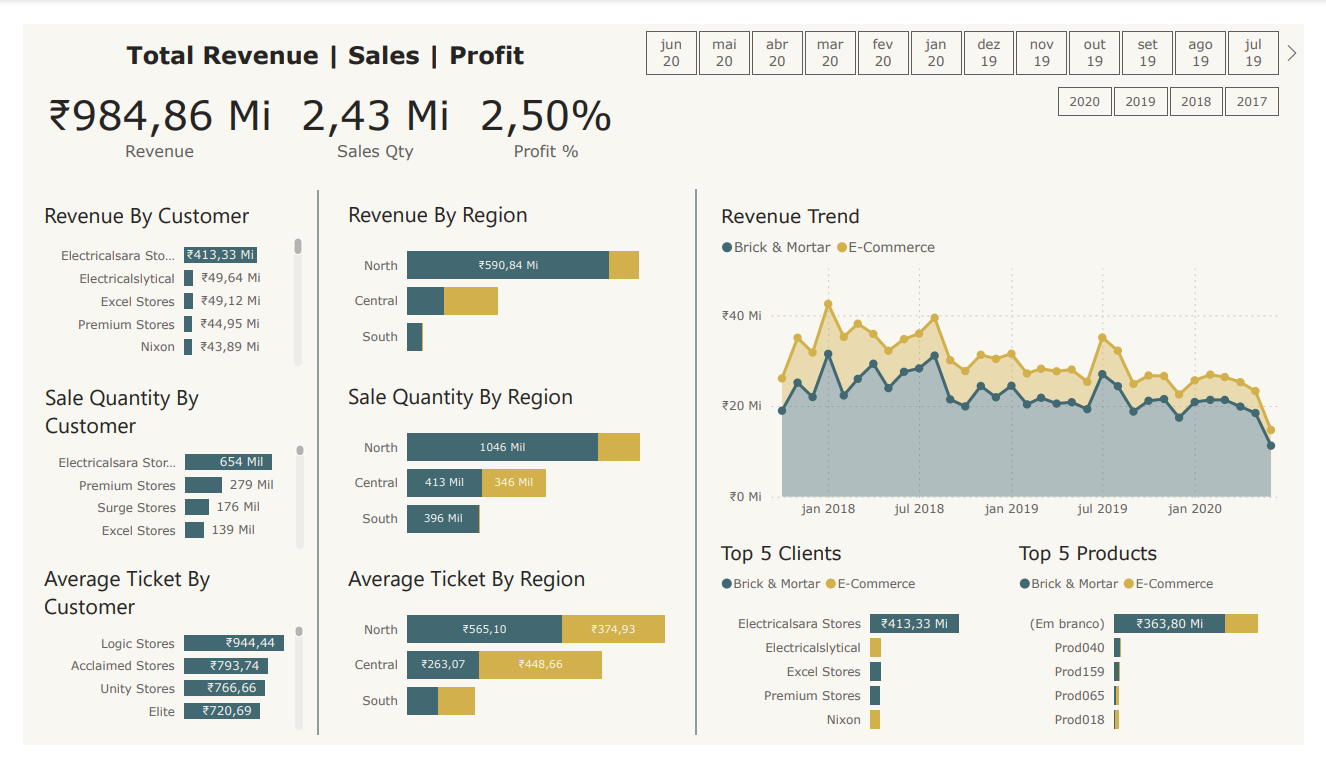

What the dashboard file says about the page in this screenshot:
{"tool":"powerbi","page":{"name":"Revenue","canvas":[1280,720],"ordinal":0},"visuals":[{"type":"textbox","box":[18.5,10.7,568,45.7],"z":0},{"type":"slicer","fields":{"Values":["sales date.date.Variation.Hierarquia de datas.Ano"]},"box":[1008.6,56.4,271.4,42.8],"z":1000},{"type":"card","fields":{"Values":["Medidas Base.Revenue"]},"box":[18.5,56.6,236.1,85.4],"z":2000},{"type":"card","fields":{"Values":["Medidas Base.Sales Qty"]},"box":[254.6,56.6,195.8,85.4],"z":3000},{"type":"barChart","title":"Revenue By Customer","fields":{"Y":["Medidas Base.Revenue"],"Category":["sales customers.custmer_name"]},"box":[1,166.3,283,180.9],"z":4000},{"type":"shape","box":[663.3,165.3,19.5,545.7],"z":5000},{"type":"barChart","title":"Sale Quantity By Customer","fields":{"Category":["sales customers.custmer_name"],"Y":["Medidas Base.Sales Qty"]},"box":[1.5,347.5,284,182],"z":6000},{"type":"barChart","title":"Average Ticket By Customer","fields":{"Y":["Medidas Base.Average Ticket"],"Category":["sales customers.custmer_name"]},"box":[1.4,529.1,283.2,181.8],"z":7000},{"type":"slicer","fields":{"Values":["sales date.cy_date"]},"box":[597.2,0,682.8,56.4],"z":8000},{"type":"shape","box":[285,165.9,20,545.5],"z":9000},{"type":"barChart","title":"Revenue By Region","fields":{"Y":["Medidas Base.Revenue"],"Category":["sales markets.zone"],"Series":["sales customers.customer_type"]},"box":[305.4,165.3,357.9,181.9],"z":10000},{"type":"barChart","title":"Sale Quantity By Region","fields":{"Y":["Medidas Base.Sales Qty"],"Category":["sales markets.zone"],"Series":["sales customers.customer_type"]},"box":[305.4,347.2,357.9,181.9],"z":11000},{"type":"barChart","title":"Average Ticket By Region","fields":{"Y":["Medidas Base.Average Ticket"],"Category":["sales markets.zone"],"Series":["sales customers.customer_type"]},"box":[305.4,529.1,357.9,181.9],"z":12000},{"type":"barChart","title":"Top 5 Clients","fields":{"Y":["Medidas Base.Revenue"],"Category":["sales customers.custmer_name"],"Series":["sales customers.customer_type"]},"box":[682.8,501.9,298.6,217.9],"z":13000},{"type":"barChart","title":"Top 5 Products","fields":{"Y":["Medidas Base.Revenue"],"Category":["sales products.product_code"],"Series":["sales customers.customer_type"]},"box":[981.4,501.9,298.6,217.9],"z":14000},{"type":"stackedAreaChart","title":"Revenue Trend","fields":{"Category":["sales date.cy_date.Variation.Hierarquia de datas.Ano","sales date.cy_date.Variation.Hierarquia de datas.Trimestre","sales date.cy_date.Variation.Hierarquia de datas.Mês","sales date.cy_date.Variation.Hierarquia de datas.Dia"],"Y":["Medidas Base.Revenue"],"Series":["sales customers.customer_type"]},"box":[682.8,165.3,597.2,336.5],"z":15000},{"type":"card","fields":{"Values":["Medidas Base.Profit %"]},"box":[450.4,56.6,146.8,85.4],"z":16000}]}

Visuals, with their boxes in screenshot pixels (x1, y1, x2, y2), scaled from the page's 1280x720 canvas onto the 1326x766 screenshot:
textbox: (left=19, top=11, right=608, bottom=60)
slicer - sales date.date.Variation.Hierarquia de datas.Ano: (left=1045, top=60, right=1325, bottom=106)
card - Medidas Base.Revenue: (left=19, top=60, right=264, bottom=151)
card - Medidas Base.Sales Qty: (left=264, top=60, right=467, bottom=151)
"Revenue By Customer" barChart: (left=1, top=177, right=294, bottom=369)
shape: (left=687, top=176, right=707, bottom=756)
"Sale Quantity By Customer" barChart: (left=2, top=370, right=296, bottom=563)
"Average Ticket By Customer" barChart: (left=1, top=563, right=295, bottom=756)
slicer - sales date.cy_date: (left=619, top=0, right=1325, bottom=60)
shape: (left=295, top=176, right=316, bottom=757)
"Revenue By Region" barChart: (left=316, top=176, right=687, bottom=369)
"Sale Quantity By Region" barChart: (left=316, top=369, right=687, bottom=563)
"Average Ticket By Region" barChart: (left=316, top=563, right=687, bottom=756)
"Top 5 Clients" barChart: (left=707, top=534, right=1017, bottom=765)
"Top 5 Products" barChart: (left=1017, top=534, right=1325, bottom=765)
"Revenue Trend" stackedAreaChart: (left=707, top=176, right=1325, bottom=534)
card - Medidas Base.Profit %: (left=467, top=60, right=619, bottom=151)
